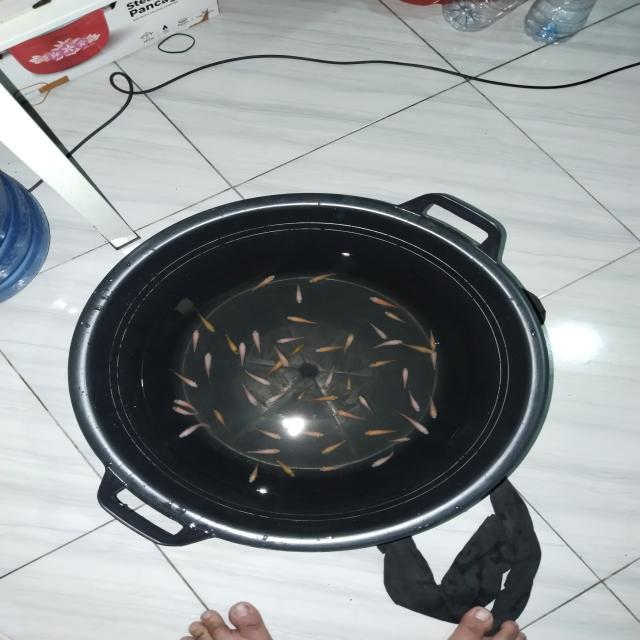nila: (188, 298, 216, 336), (394, 410, 432, 438), (367, 294, 412, 310), (172, 398, 206, 418), (176, 422, 213, 440), (248, 272, 278, 294), (364, 319, 392, 342), (172, 368, 200, 391), (320, 435, 348, 456), (264, 387, 296, 405), (242, 368, 272, 387), (264, 357, 291, 378), (356, 393, 378, 417), (270, 344, 292, 368), (368, 338, 404, 352), (241, 384, 261, 409), (400, 342, 435, 356), (172, 405, 204, 420), (201, 351, 214, 387), (370, 452, 397, 469), (256, 426, 286, 441), (222, 331, 238, 358), (274, 460, 298, 478), (290, 426, 326, 438), (307, 271, 338, 284), (285, 314, 318, 326), (382, 310, 410, 324), (324, 362, 338, 390), (366, 358, 399, 369), (286, 342, 306, 360), (406, 390, 421, 414), (213, 408, 230, 429), (274, 334, 306, 345), (242, 448, 286, 456), (426, 394, 439, 421), (250, 330, 264, 354), (342, 332, 357, 354), (398, 366, 411, 391), (189, 327, 201, 354), (314, 344, 346, 354), (362, 428, 402, 436), (308, 393, 339, 403), (246, 461, 260, 482), (293, 280, 305, 304), (238, 340, 248, 368), (428, 326, 440, 349), (430, 348, 440, 374), (344, 371, 354, 393), (318, 464, 344, 472), (386, 436, 411, 444), (295, 386, 310, 399)
